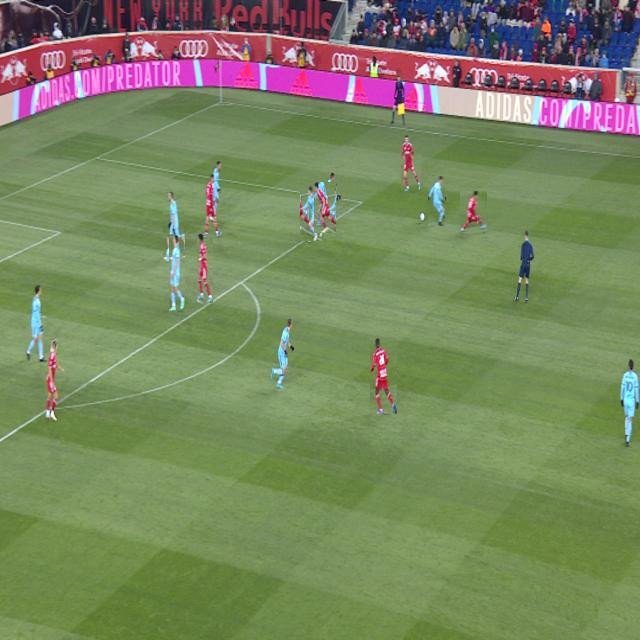football: (420, 213, 425, 222)
player: (371, 339, 397, 414), (620, 359, 640, 446), (26, 285, 47, 362), (271, 318, 294, 388), (45, 339, 64, 421), (164, 192, 184, 261), (315, 173, 340, 226), (169, 235, 185, 311), (301, 187, 323, 241), (204, 174, 222, 239), (197, 234, 213, 303), (460, 192, 487, 232), (315, 183, 336, 233), (402, 136, 421, 191), (429, 176, 445, 226), (209, 161, 221, 221)
referee: (514, 231, 534, 303)
